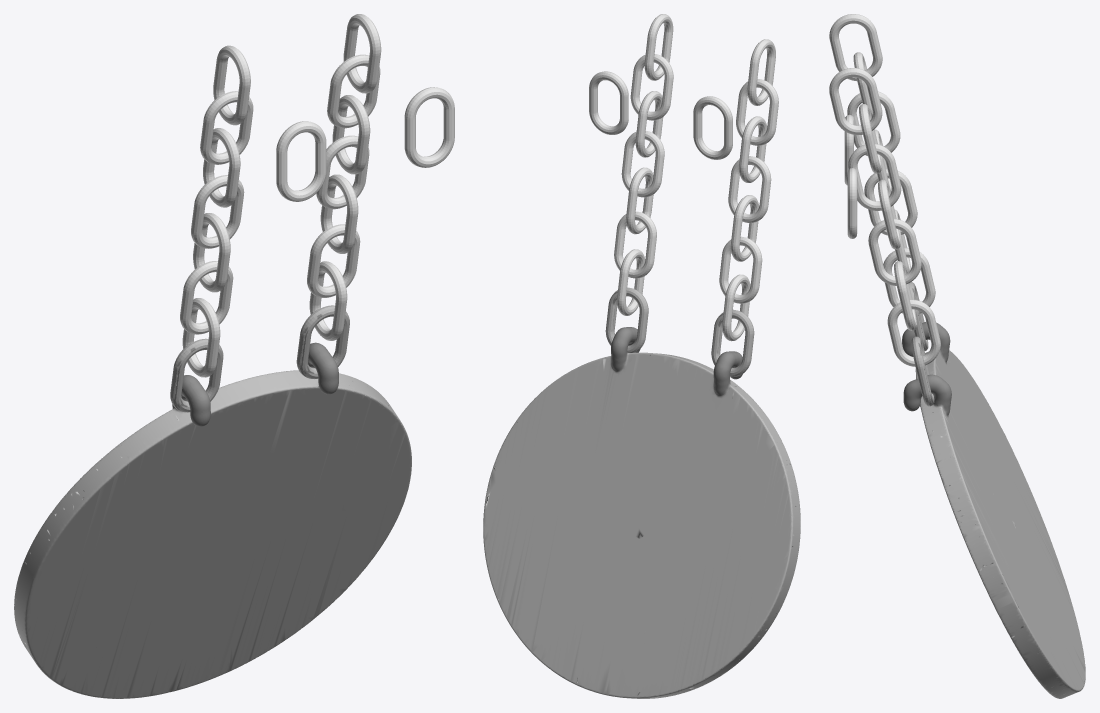
Rendered from sign-animation-combined2-transformed.glb.
3 renders of one model, left to right at view 1: azimuth 30°, elevation 25°; view 2: azimuth 150°, elevation 25°; view 3: azimuth 270°, elevation 25°, orthographic. The views are drawn at different scales.
Parts seen in each view (by area): view 1: Torus.074, Torus.072, Torus.050, Torus.071, Torus.056, Torus.062, Torus.059, Torus.051, Torus.001, Torus.063, Torus.070, Torus.058 (+4 smaller); view 2: Torus.074, Torus.072, Torus.002, Torus.070, Torus.062, Torus.059, Torus.051, Torus.056, Torus.050, Torus.071, Torus.058, Torus.060 (+4 smaller); view 3: Torus.074, Torus.071, Torus.061, Torus.063, Torus.050, Torus.001, Torus.072, Torus.058, Torus.053, Torus.060, Torus.062, Torus.002 (+2 smaller).
Boxes of the visible parts, left/top/right/bottom form: Torus.074: left=14, top=305, right=411, bottom=698; Torus.072: left=276, top=87, right=454, bottom=201; Torus.050: left=213, top=45, right=250, bottom=125; Torus.071: left=343, top=14, right=381, bottom=93; Torus.056: left=191, top=175, right=244, bottom=248; Torus.062: left=307, top=224, right=360, bottom=297; Torus.059: left=180, top=261, right=233, bottom=334; Torus.051: left=200, top=91, right=253, bottom=164; Torus.001: left=332, top=95, right=370, bottom=174; Torus.063: left=320, top=174, right=358, bottom=253; Torus.070: left=327, top=54, right=380, bottom=128; Torus.058: left=193, top=213, right=230, bottom=292; Torus.074: left=483, top=287, right=800, bottom=698; Torus.072: left=589, top=71, right=732, bottom=159; Torus.002: left=621, top=131, right=664, bottom=197; Torus.070: left=630, top=54, right=673, bottom=120; Torus.062: left=614, top=211, right=656, bottom=278; Torus.059: left=719, top=236, right=762, bottom=303; Torus.051: left=736, top=79, right=778, bottom=145; Torus.056: left=728, top=156, right=771, bottom=222; Torus.050: left=747, top=39, right=775, bottom=105; Torus.071: left=644, top=14, right=673, bottom=80; Torus.058: left=730, top=195, right=759, bottom=261; Torus.060: left=722, top=274, right=750, bottom=341; Torus.074: left=902, top=282, right=1085, bottom=698; Torus.071: left=829, top=68, right=882, bottom=134; Torus.061: left=887, top=299, right=940, bottom=366; Torus.063: left=868, top=218, right=921, bottom=285; Torus.050: left=829, top=14, right=882, bottom=80; Torus.001: left=848, top=144, right=901, bottom=210; Torus.072: left=844, top=114, right=857, bottom=238; Torus.058: left=864, top=169, right=917, bottom=235; Torus.053: left=847, top=91, right=900, bottom=155; Torus.060: left=883, top=248, right=935, bottom=313; Torus.062: left=894, top=261, right=916, bottom=330; Torus.002: left=878, top=179, right=900, bottom=249.
Bounding box in the file's own units: 7.39 × 13.99 × 5.1.
1 material, 1 textured.
